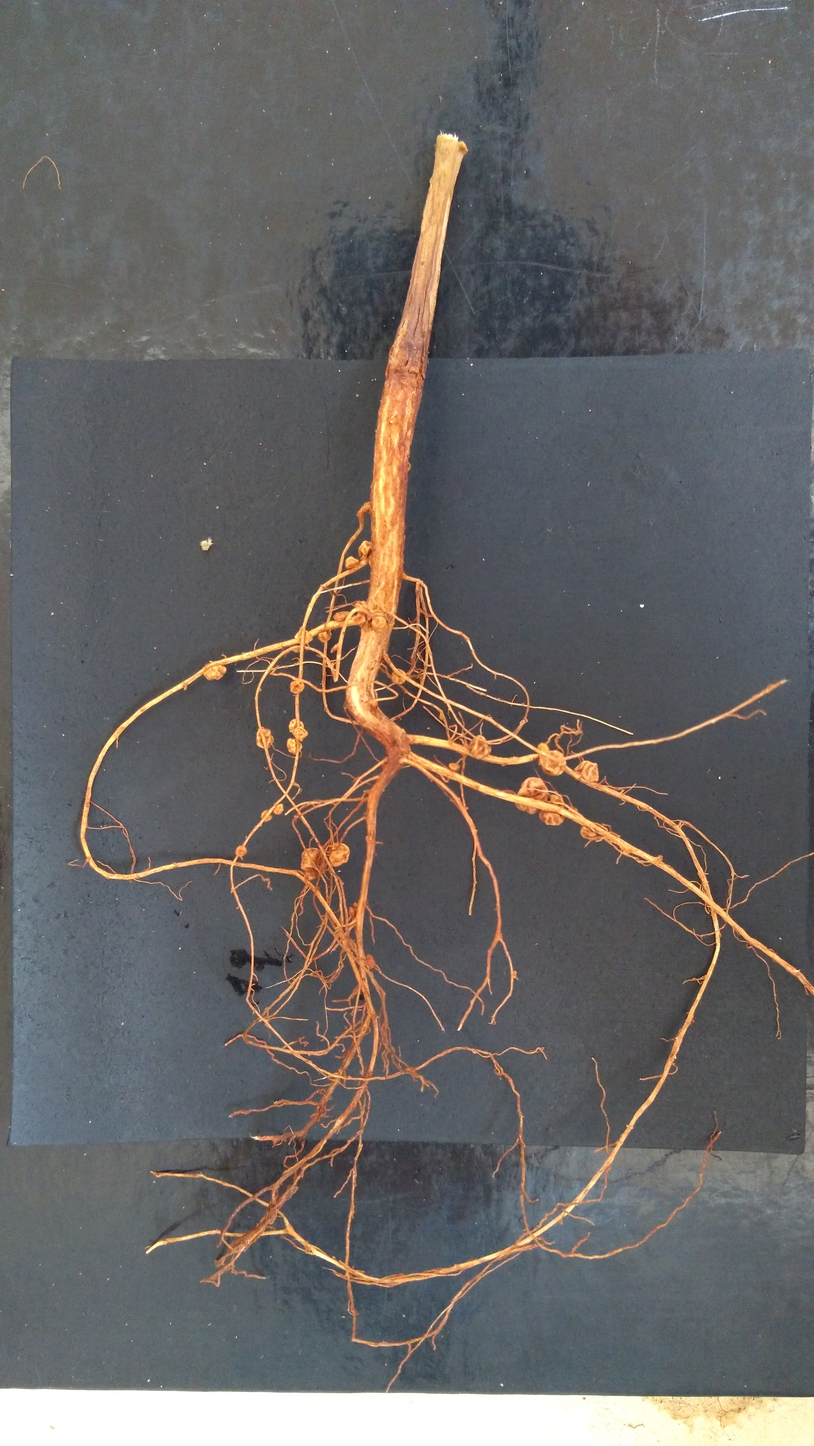nodule: (512, 775, 551, 816), (537, 790, 568, 829), (537, 741, 568, 778), (299, 846, 324, 882), (467, 733, 492, 761), (579, 819, 609, 842), (328, 842, 351, 869), (201, 661, 228, 682), (579, 762, 601, 783), (255, 726, 274, 750), (286, 736, 304, 755), (357, 539, 372, 561), (287, 717, 305, 735), (390, 667, 407, 686), (294, 628, 314, 644), (572, 759, 592, 774), (289, 678, 306, 695), (343, 555, 361, 570), (293, 726, 309, 742), (316, 628, 333, 643), (372, 616, 387, 632), (353, 598, 369, 613), (259, 809, 273, 824), (332, 611, 351, 622), (234, 845, 248, 858), (365, 953, 375, 971), (272, 803, 285, 815), (448, 762, 461, 772), (351, 900, 359, 914), (347, 906, 356, 918)
